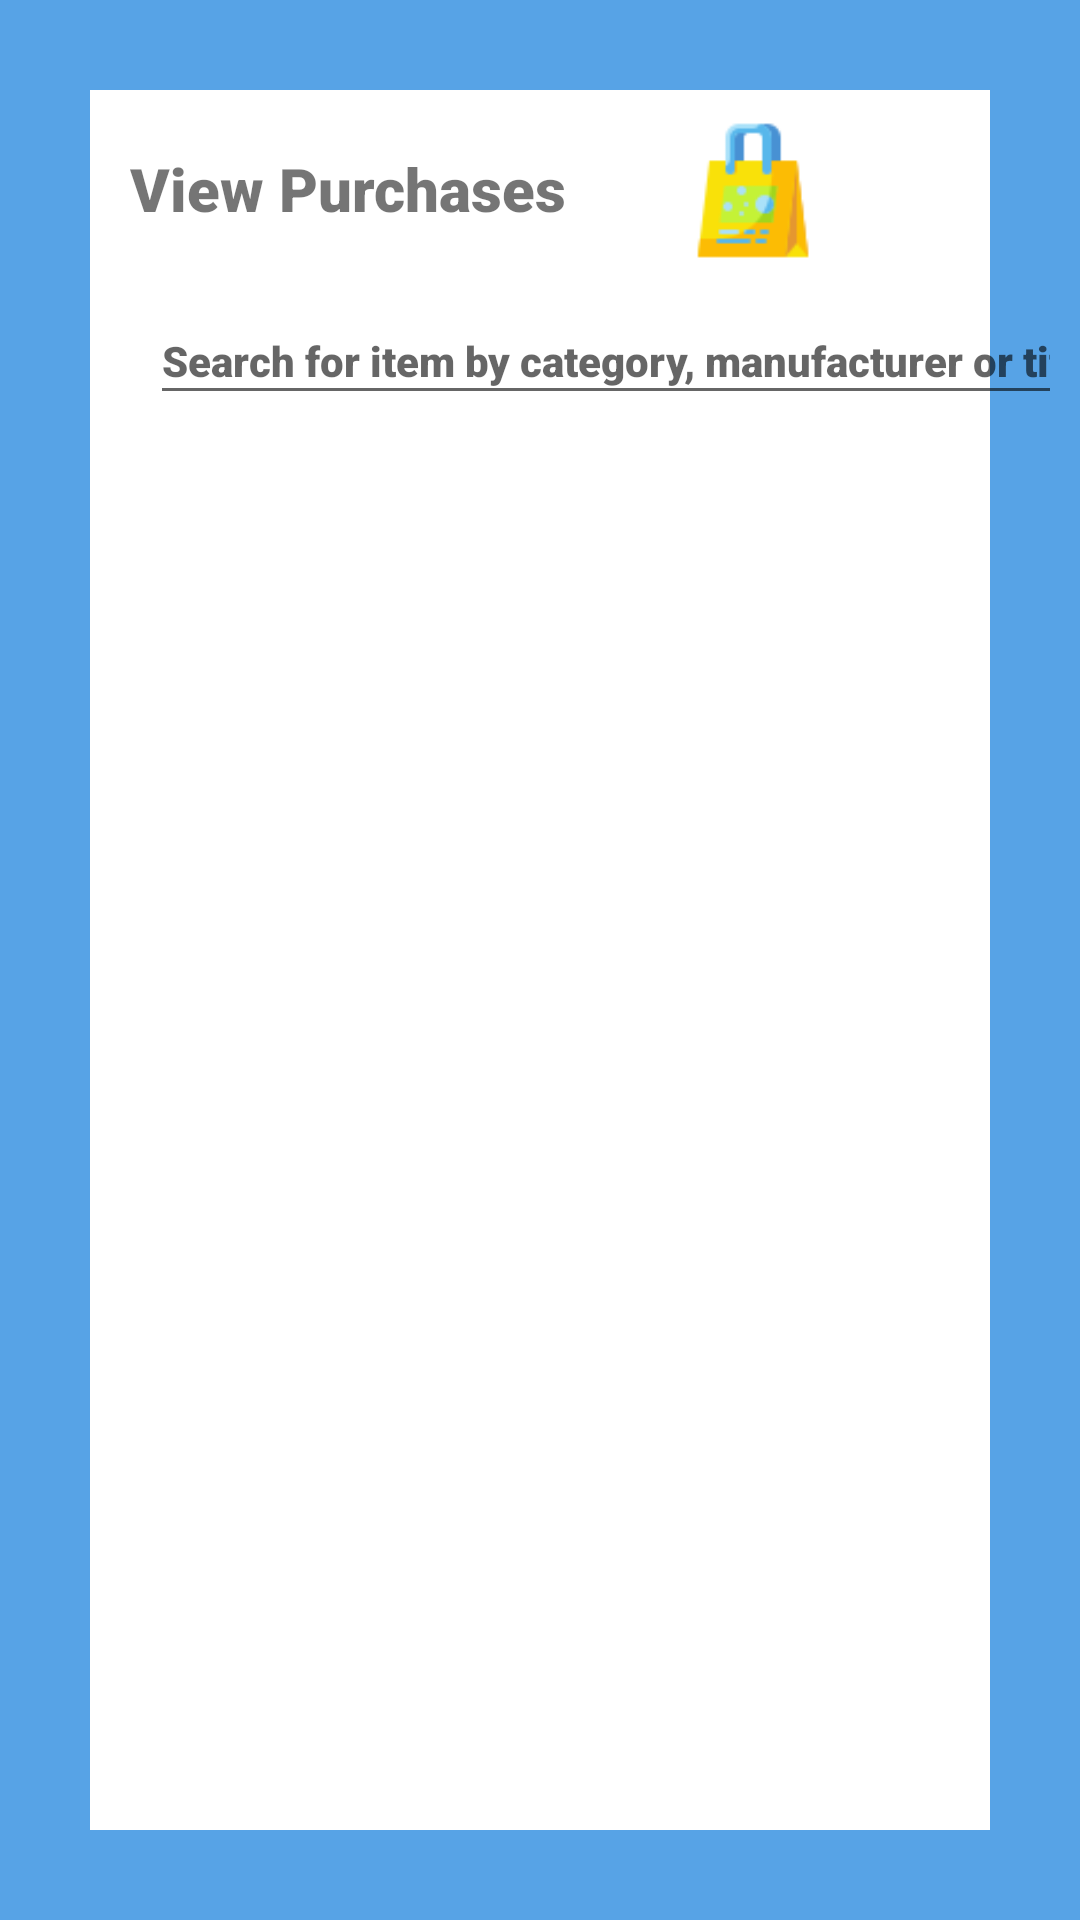

Screen size 1080×1920. Icon name, then its box in pixels as (left=x1, top=y1, right=x2, bottom=y2):
shopping bag: (left=697, top=123, right=809, bottom=258)
